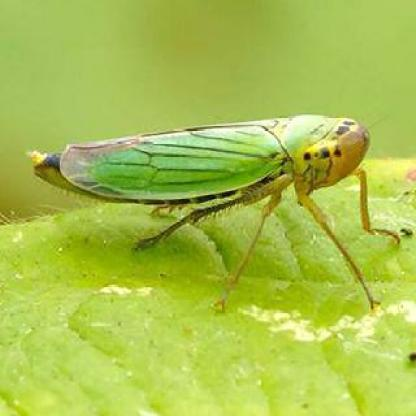green-leafhopper: (33, 118, 402, 314)
